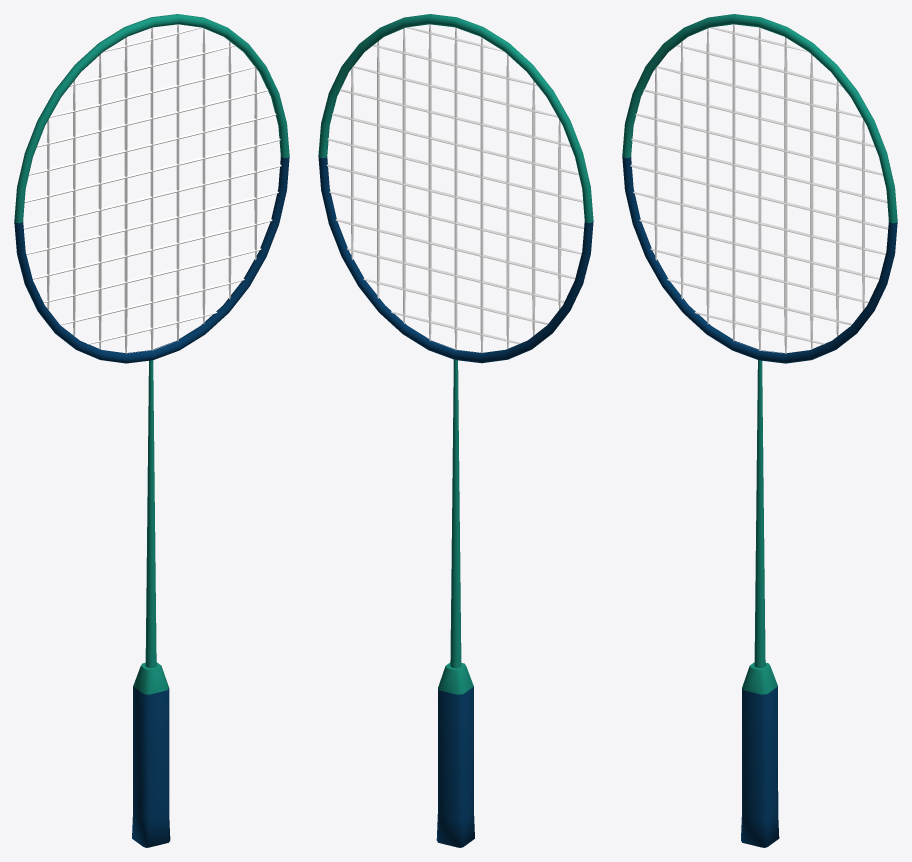
File: Racket_1a.fbx
3 renders of one model, left to right at view 1: azimuth 30°, elevation 25°; view 2: azimuth 150°, elevation 25°; view 3: azimuth 330°, elevation 25°, orthographic.
Parts seen in each view (by area): view 1: Racket_1a; view 2: Racket_1a; view 3: Racket_1a.
Part boxes in pixels (box(x1,y1,x2,y2)): Racket_1a: box(14, 14, 289, 847); Racket_1a: box(318, 14, 593, 847); Racket_1a: box(622, 14, 897, 847).
Size of the model in its own units: 0.1711 by 0.4929 by 0.0168.
